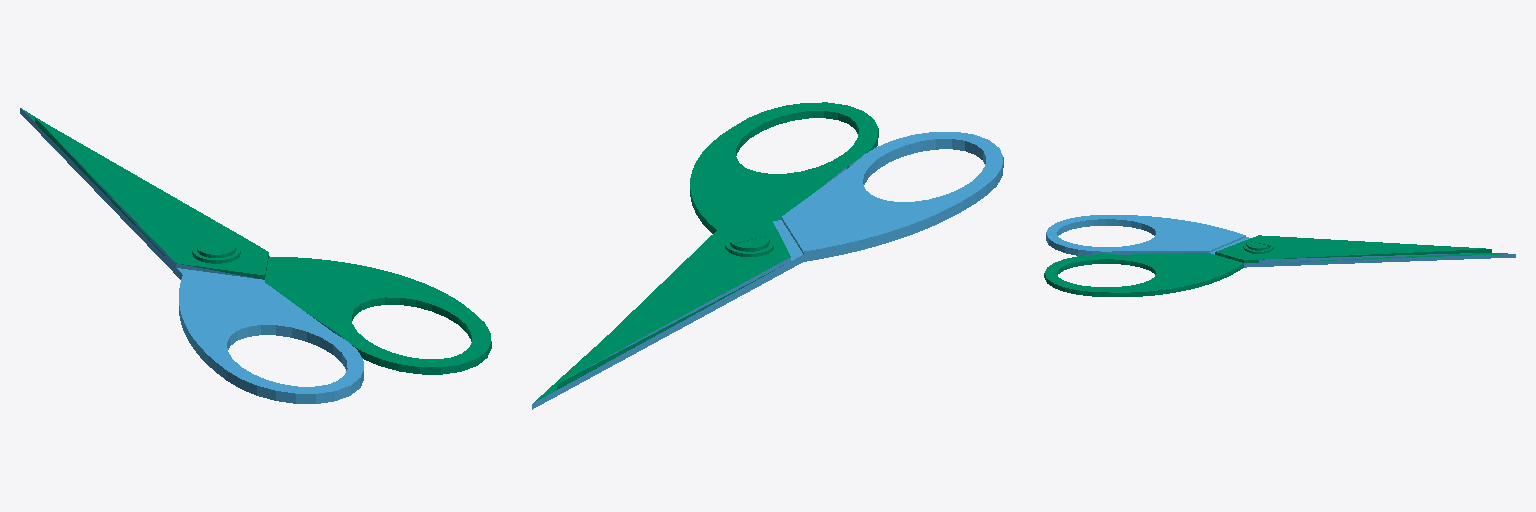
The robot description file, URDF, robot "partnet_81aa36450190469f3ea815b08cac341":
<?xml version="1.0" ?>
<robot name="partnet_81aa36450190469f3ea815b08cac341">
	<link name="base"/>
	<link name="link_0">
		<visual name="blade-6">
			<origin xyz="0.1426390553299801 -0.03288799999999936 -0.016671568465038478"/>
			<geometry>
				<mesh filename="textured_objs/new-8.obj"/>
			</geometry>
		</visual>
		<visual name="handle-7">
			<origin xyz="0.1426390553299801 -0.03288799999999936 -0.016671568465038478"/>
			<geometry>
				<mesh filename="textured_objs/new-5.obj"/>
			</geometry>
		</visual>
		<collision>
			<origin xyz="0.1426390553299801 -0.03288799999999936 -0.016671568465038478"/>
			<geometry>
				<mesh filename="textured_objs/new-8.obj"/>
			</geometry>
		</collision>
		<collision>
			<origin xyz="0.1426390553299801 -0.03288799999999936 -0.016671568465038478"/>
			<geometry>
				<mesh filename="textured_objs/new-5.obj"/>
			</geometry>
		</collision>
	</link>
	<joint name="joint_0" type="revolute">
		<origin xyz="-0.1426390553299801 0.03288799999999936 0.016671568465038478"/>
		<axis xyz="0 -1 0"/>
		<child link="link_0"/>
		<parent link="link_1"/>
		<limit lower="-0.0" upper="1.3634512116579702"/>
	</joint>
	<link name="link_1">
		<visual name="screw-3">
			<origin xyz="0 0 0"/>
			<geometry>
				<mesh filename="textured_objs/new-0.obj"/>
			</geometry>
		</visual>
		<visual name="screw-3">
			<origin xyz="0 0 0"/>
			<geometry>
				<mesh filename="textured_objs/new-1.obj"/>
			</geometry>
		</visual>
		<visual name="blade-4">
			<origin xyz="0 0 0"/>
			<geometry>
				<mesh filename="textured_objs/new-7.obj"/>
			</geometry>
		</visual>
		<visual name="handle-5">
			<origin xyz="0 0 0"/>
			<geometry>
				<mesh filename="textured_objs/new-6.obj"/>
			</geometry>
		</visual>
		<collision>
			<origin xyz="0 0 0"/>
			<geometry>
				<mesh filename="textured_objs/new-0.obj"/>
			</geometry>
		</collision>
		<collision>
			<origin xyz="0 0 0"/>
			<geometry>
				<mesh filename="textured_objs/new-1.obj"/>
			</geometry>
		</collision>
		<collision>
			<origin xyz="0 0 0"/>
			<geometry>
				<mesh filename="textured_objs/new-7.obj"/>
			</geometry>
		</collision>
		<collision>
			<origin xyz="0 0 0"/>
			<geometry>
				<mesh filename="textured_objs/new-6.obj"/>
			</geometry>
		</collision>
	</link>
	<joint name="joint_1" type="fixed">
		<origin rpy="1.570796326794897 0 -1.570796326794897" xyz="0 0 0"/>
		<child link="link_1"/>
		<parent link="base"/>
	</joint>
</robot>

--- Render facts (derived) ---
Views: 3 orthographic renders of the robot side by side, from view 1: azimuth 30°, elevation 25°; view 2: azimuth 150°, elevation 25°; view 3: azimuth 270°, elevation 25°.
Robot: partnet_81aa36450190469f3ea815b08cac341 — 3 links, 2 joints (1 revolute, 1 fixed); root link base; default pose: all joints at 0.
Links seen in each view (by area): view 1: link_1, link_0; view 2: link_1, link_0; view 3: link_1, link_0.
Boxes of the visible links, x1,y1,x2,y2 form: link_1: [21, 108, 491, 374]; link_0: [20, 108, 363, 403]; link_1: [535, 102, 878, 401]; link_0: [532, 132, 1003, 409]; link_1: [1044, 235, 1507, 296]; link_0: [1046, 215, 1515, 267].
Size in the robot's own frame: 0.6231 by 1.63 by 0.0551 metres.
Meshes: 6 distinct files referenced, 6 mesh visuals loaded (6 OBJ).
